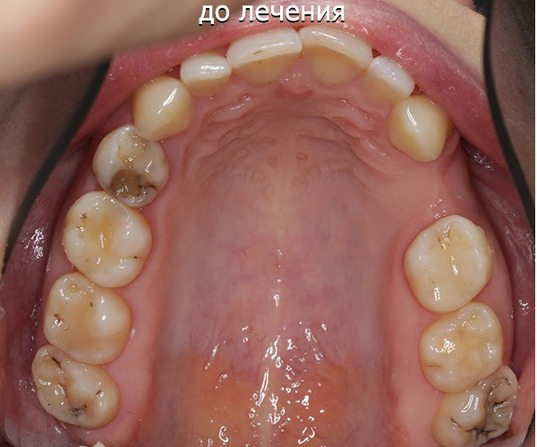UL1M_healthy: (420, 305, 502, 393)
UL2BC_healthy: (401, 212, 494, 313)
UL2M_decay: (429, 372, 519, 443)
ULCI_healthy: (302, 28, 370, 86)
ULC_healthy: (386, 96, 452, 162)
ULLI_healthy: (369, 60, 408, 103)
UR1BC_decay: (93, 128, 172, 199)
UR1M_healthy: (46, 277, 131, 362)
UR2BC_healthy: (65, 193, 154, 284)
UR2M_decay: (35, 353, 121, 424)
URCI_healthy: (229, 30, 301, 82)
URC_healthy: (133, 80, 194, 137)
URLI_healthy: (182, 55, 231, 92)
